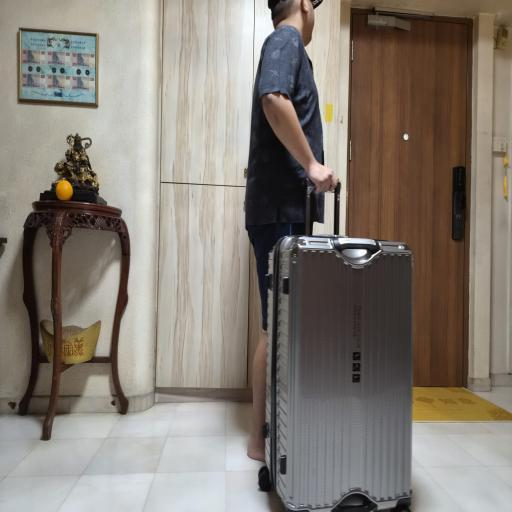person_right: (209, 4, 425, 500)
